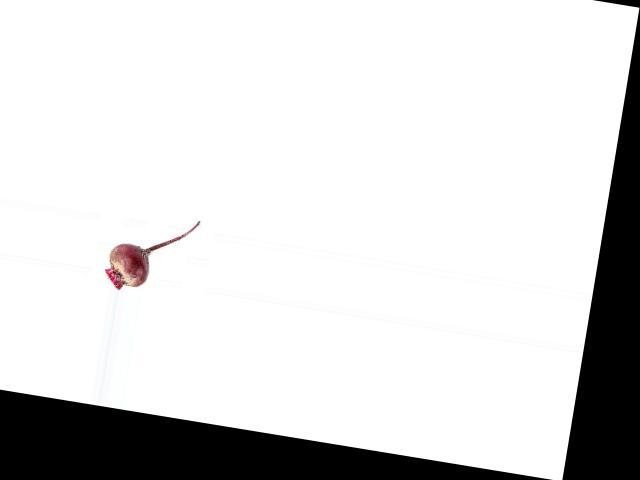beet: (103, 207, 200, 301)
